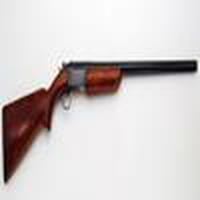gun: (2, 58, 200, 182)
